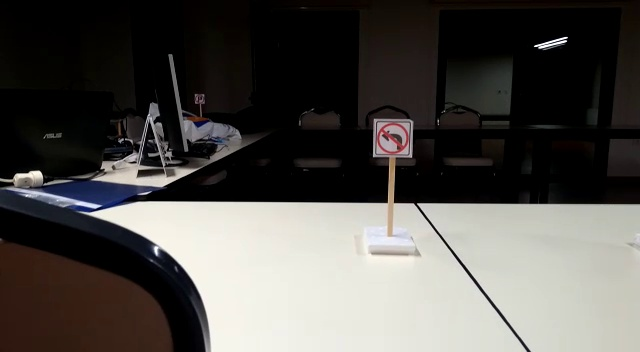sola_donulmez: (368, 120, 414, 159)
